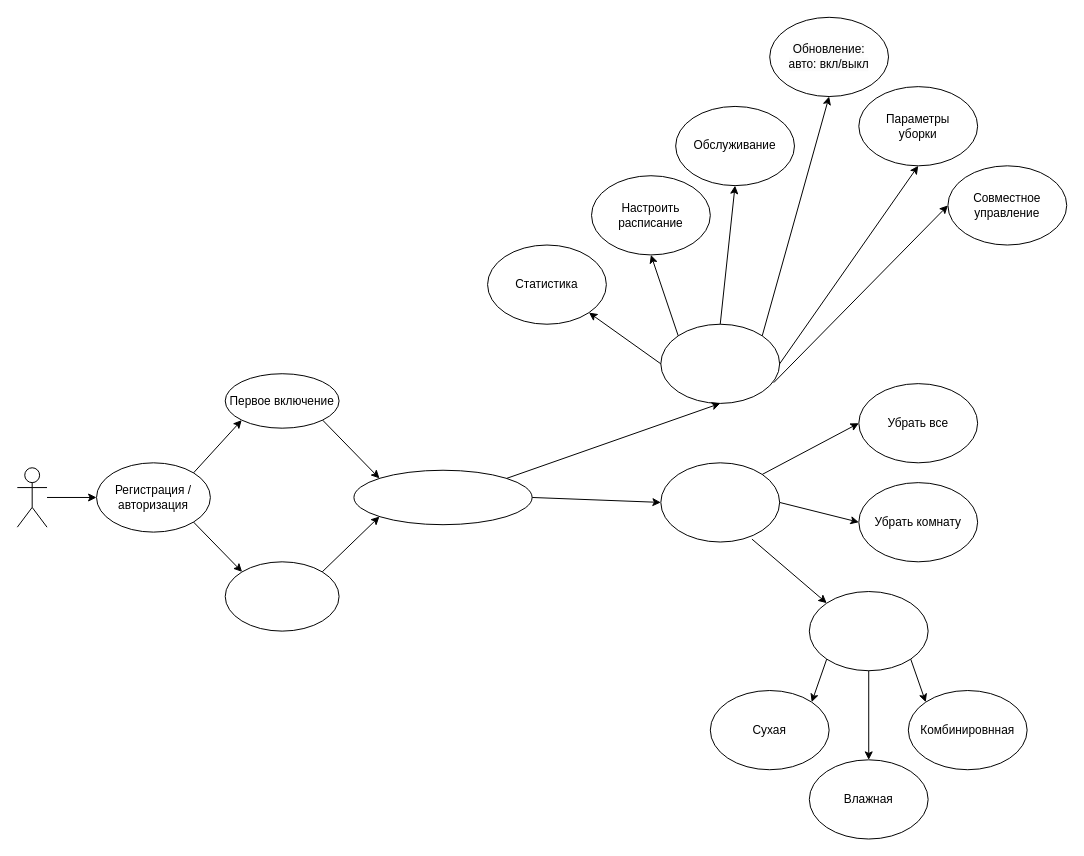
Some shapes in this 1084 by 856 pixel diagram are drawn without their labels. Each missing label, with the box of its shape:
Actor: (16, 467, 47, 527)
выбор робота: (353, 469, 532, 525)
Добавление нового робота: (224, 561, 339, 631)
Настройки: (660, 323, 780, 403)
Режим уборки: (808, 591, 928, 671)
Уборка: (660, 462, 780, 542)
